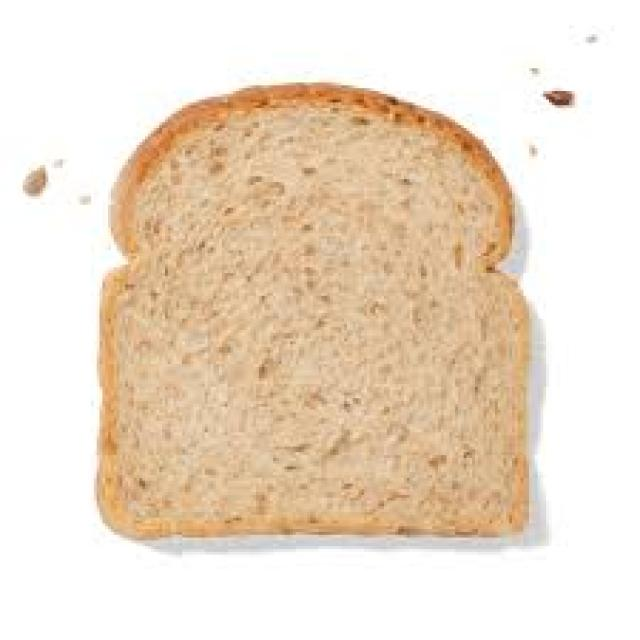Bread: (99, 84, 529, 537)
